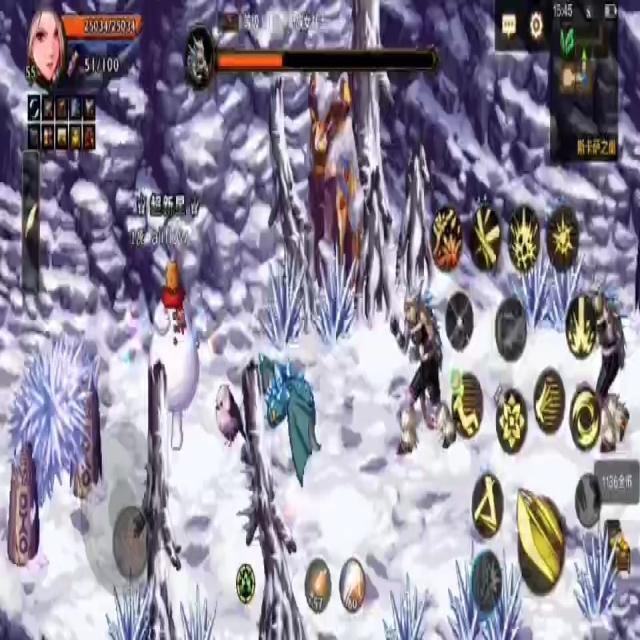player: (146, 258, 195, 458)
